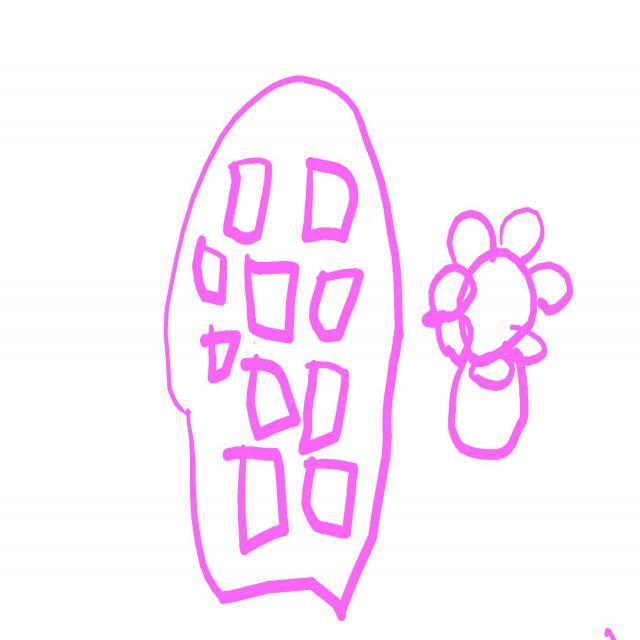house: (165, 76, 403, 620)
window: (237, 445, 284, 535), (308, 154, 356, 242), (245, 258, 293, 339), (239, 362, 293, 431), (305, 461, 348, 534), (233, 156, 267, 240), (311, 359, 344, 444), (313, 272, 355, 335), (196, 233, 225, 297), (207, 331, 234, 376)
